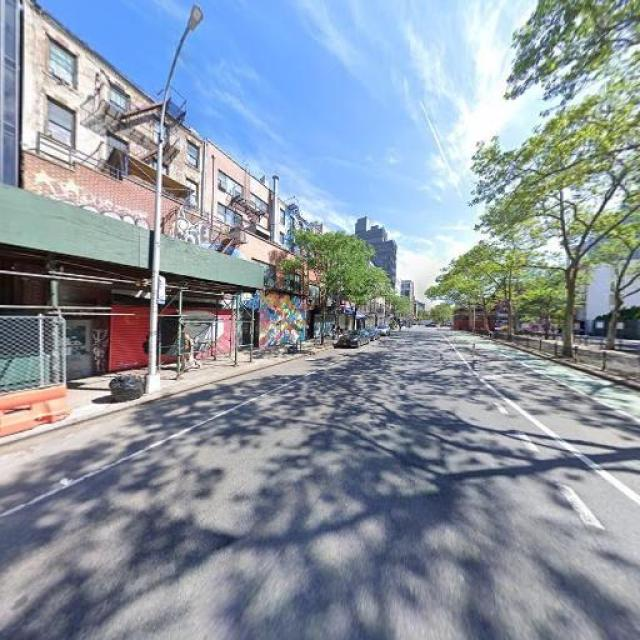Building: (29, 135, 265, 374), (1, 122, 20, 379), (269, 247, 317, 342), (320, 272, 352, 334)
